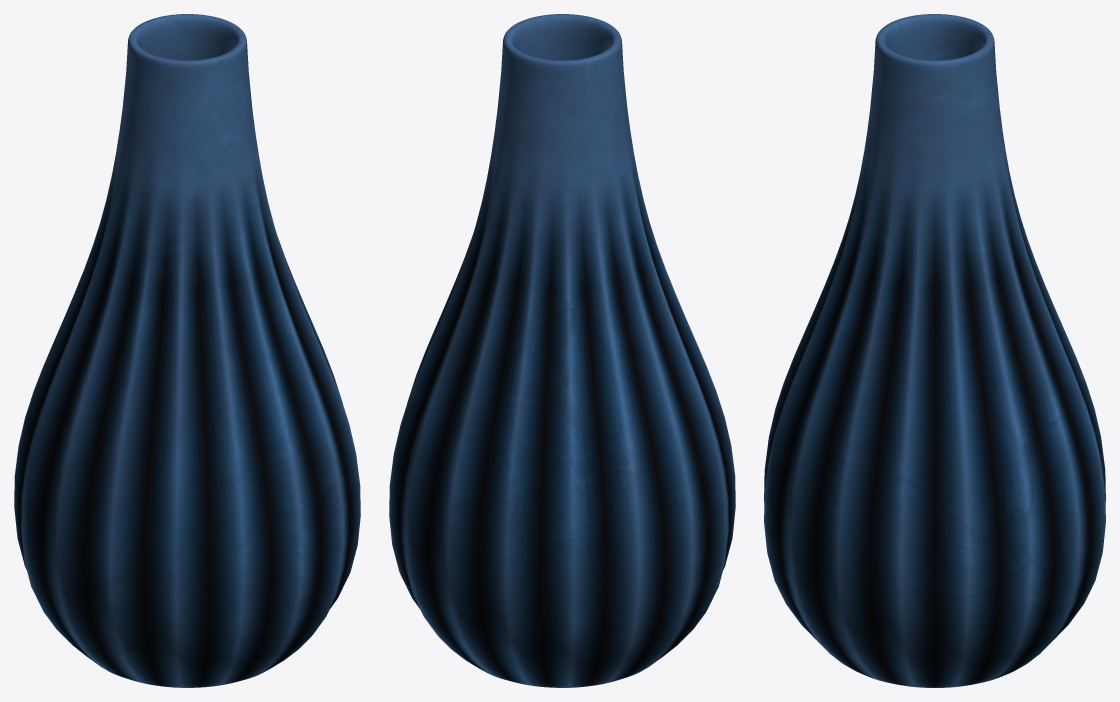
The model's file is Decorative Vase.glb.
3 views of the same model, side by side, from view 1: azimuth 30°, elevation 25°; view 2: azimuth 150°, elevation 25°; view 3: azimuth 270°, elevation 25° (orthographic).
Parts seen in each view (by area): view 1: blue_vase; view 2: blue_vase; view 3: blue_vase.
Part boxes in pixels (left/top/right/bottom): blue_vase: left=14, top=14, right=360, bottom=687; blue_vase: left=389, top=14, right=735, bottom=687; blue_vase: left=764, top=14, right=1105, bottom=687.
Size of the model in its own units: 0.1653 by 0.326 by 0.1653.
1 material, 1 textured.
